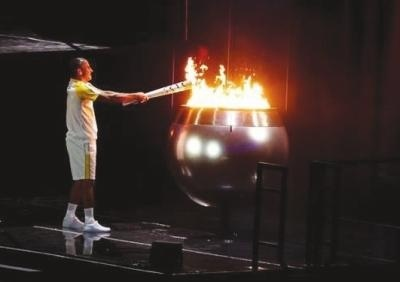fire: (181, 51, 273, 110)
